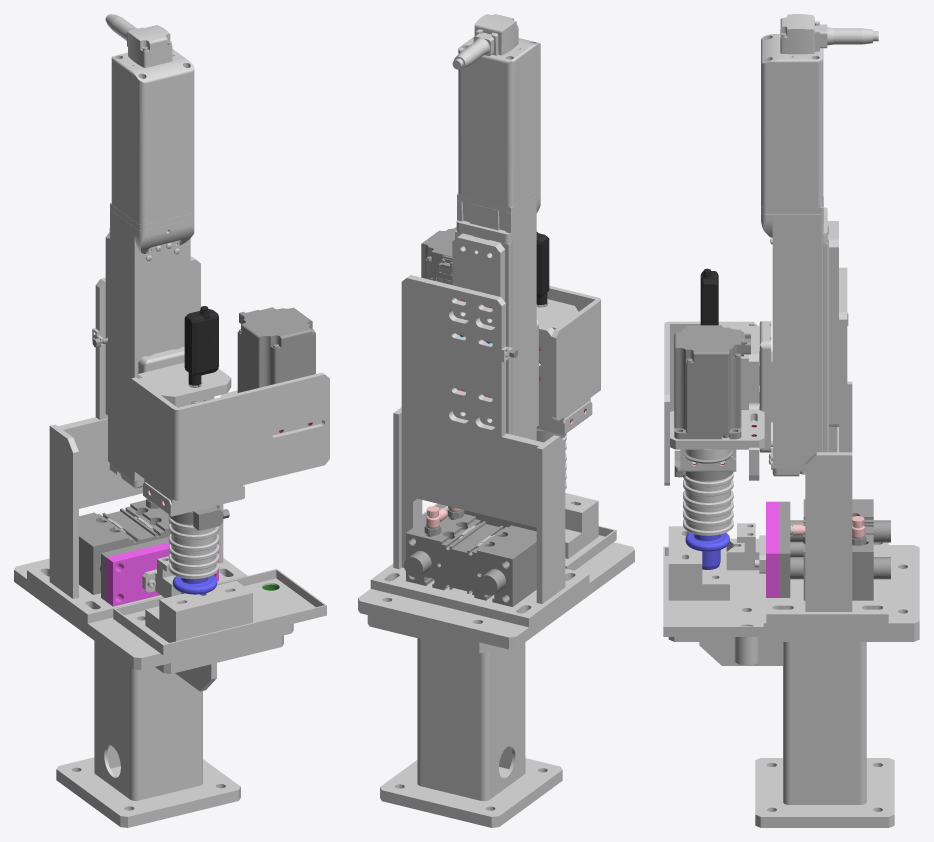
The model's file is tap_inspect.obj.
3 renders of one model, left to right at view 1: azimuth 30°, elevation 25°; view 2: azimuth 150°, elevation 25°; view 3: azimuth 270°, elevation 25°, orthographic.
Parts seen in each view (by area): view 1: obj2, obj4, obj7, obj5, obj6, obj1, obj14, obj12, obj15; view 2: obj7, obj2, obj4, obj6, obj1, obj5, obj12; view 3: obj2, obj4, obj7, obj5, obj6, obj1, obj14, obj12, obj15.
Boxes of the visible parts, x1=… form: obj2: x1=56, y1=328, x2=329, y2=827; obj4: x1=108, y1=49, x2=194, y2=488; obj7: x1=14, y1=232, x2=322, y2=670; obj5: x1=92, y1=307, x2=315, y2=392; obj6: x1=79, y1=498, x2=229, y2=601; obj1: x1=105, y1=14, x2=202, y2=532; obj14: x1=106, y1=542, x2=218, y2=606; obj12: x1=184, y1=306, x2=218, y2=385; obj15: x1=172, y1=575, x2=217, y2=595; obj7: x1=358, y1=234, x2=634, y2=649; obj2: x1=367, y1=285, x2=616, y2=827; obj4: x1=455, y1=36, x2=540, y2=440; obj6: x1=404, y1=430, x2=566, y2=606; obj1: x1=452, y1=14, x2=548, y2=548; obj5: x1=421, y1=227, x2=517, y2=357; obj12: x1=536, y1=232, x2=549, y2=305; obj2: x1=663, y1=312, x2=919, y2=827; obj4: x1=761, y1=34, x2=828, y2=476; obj7: x1=668, y1=221, x2=919, y2=635; obj5: x1=674, y1=325, x2=750, y2=439; obj6: x1=674, y1=450, x2=890, y2=600; obj1: x1=759, y1=14, x2=878, y2=452; obj14: x1=766, y1=501, x2=779, y2=597; obj12: x1=700, y1=268, x2=718, y2=325; obj15: x1=685, y1=532, x2=729, y2=569.
Bounding box in the file's own units: 198 × 762 × 230.
